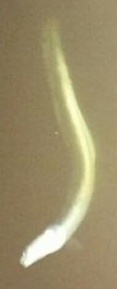Anguilla anguilla: (20, 20, 97, 269)
